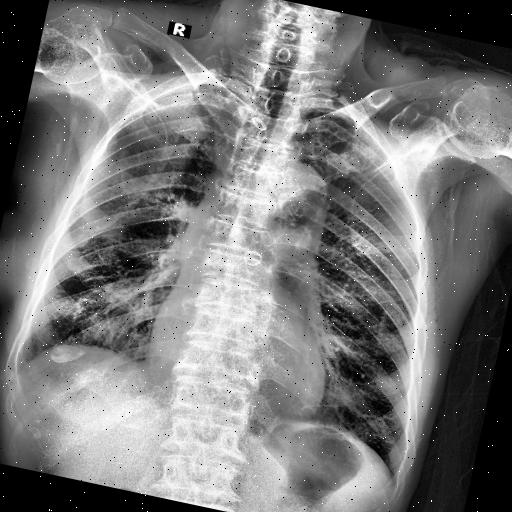0- Aortic enlargement: (246, 152, 336, 226), (262, 156, 338, 228), (266, 154, 334, 230)
10- Pleural effusion: (5, 346, 37, 380), (6, 348, 32, 381), (11, 356, 29, 381)
11- Pleural thickening: (296, 87, 380, 133), (5, 346, 37, 380), (6, 348, 32, 381), (11, 356, 29, 381)
7- Lung Opacity: (156, 94, 208, 199), (46, 340, 88, 368)
8- Nodule-Mass: (47, 339, 85, 369)
9- Other lesion: (47, 339, 85, 369), (49, 342, 87, 368)
